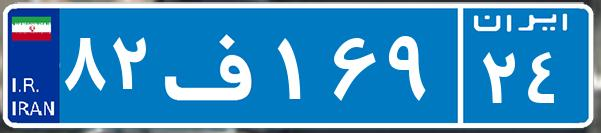1: (273, 28, 330, 110)
2: (475, 38, 525, 113), (110, 28, 158, 105)
4: (525, 38, 570, 115)
6: (330, 28, 385, 110)
8: (57, 26, 110, 107)
9: (385, 28, 445, 110)
ف: (158, 15, 273, 115)
